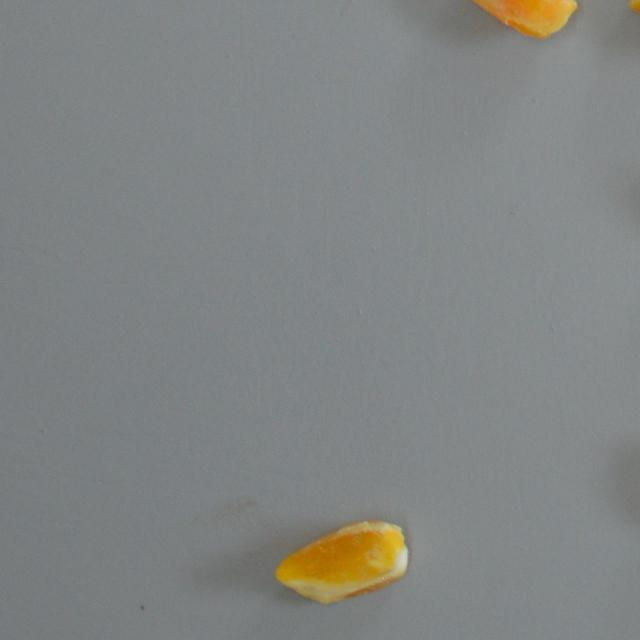pelicula: (269, 517, 408, 612), (452, 0, 580, 41)
